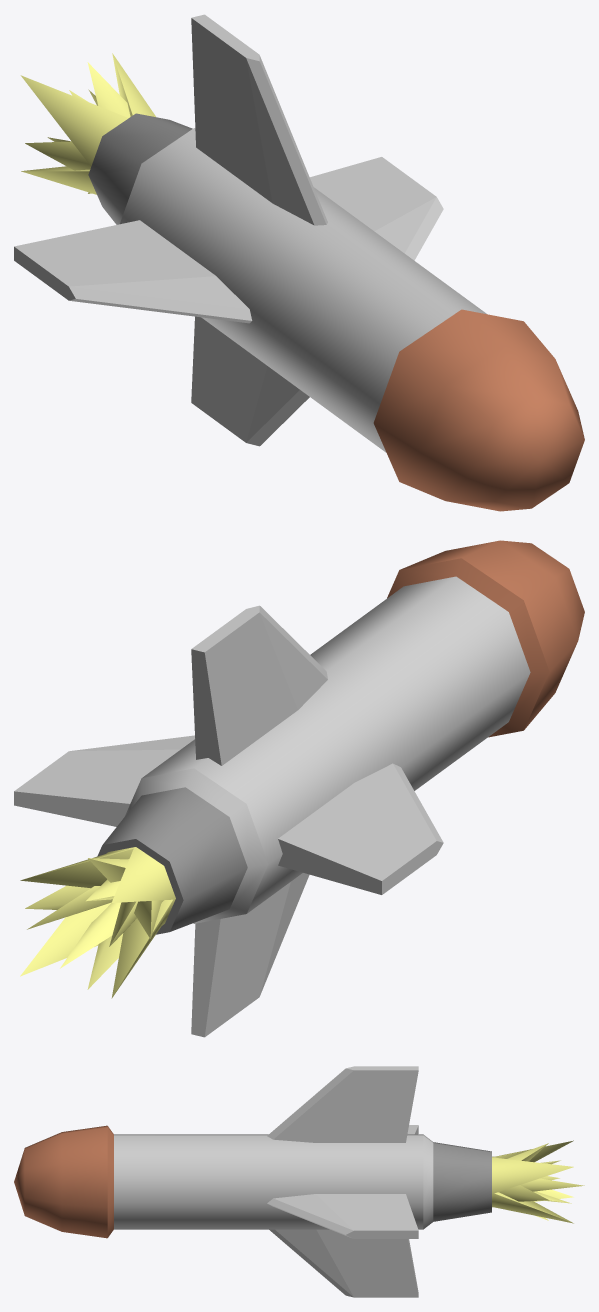
File: Rocket.fbx
3 views of the same model, one above another, from view 1: azimuth 30°, elevation 25°; view 2: azimuth 150°, elevation 25°; view 3: azimuth 270°, elevation 25° (orthographic). The views are drawn at different scales.
Parts seen in each view (by area): view 1: Rocket; view 2: Rocket; view 3: Rocket.
Boxes of the visible parts, bbox=[...] form: Rocket: bbox=[14, 14, 584, 511]; Rocket: bbox=[14, 540, 584, 1037]; Rocket: bbox=[14, 1066, 584, 1297].
Size of the model in its own units: 48.41 by 48.41 by 110.
